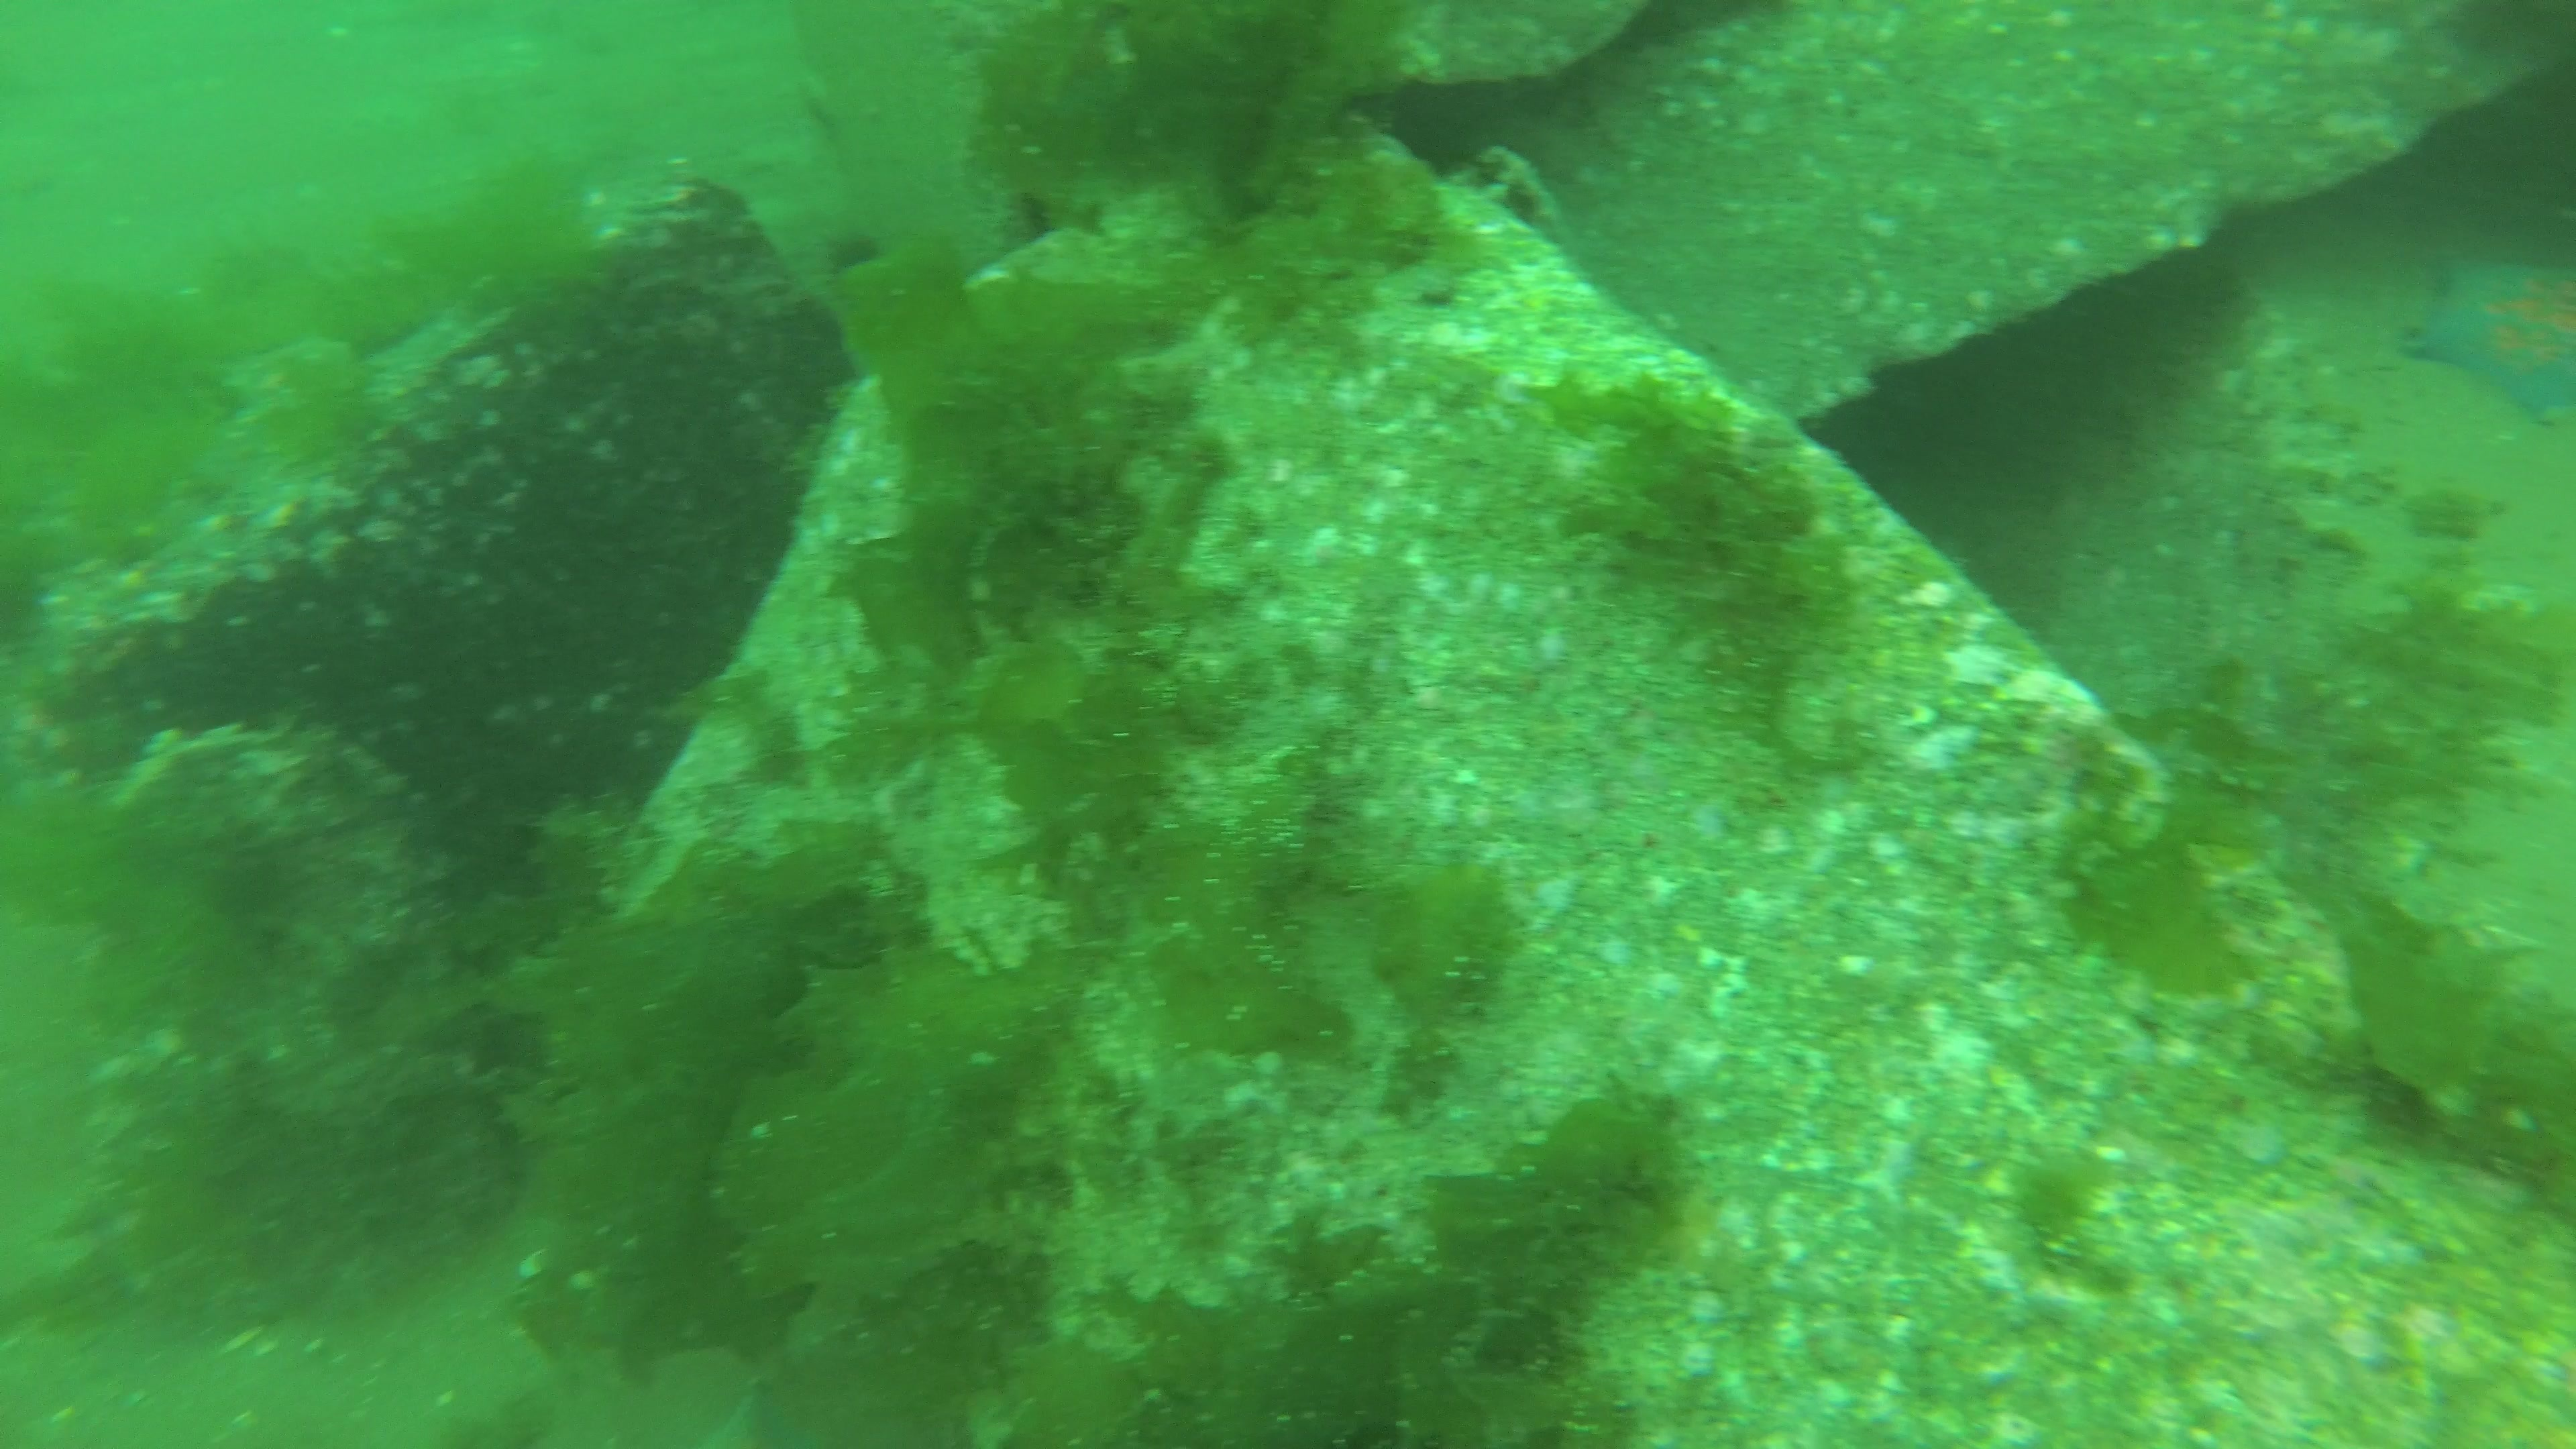echinus: (823, 234, 885, 278)
starfish: (2408, 258, 2576, 425)
